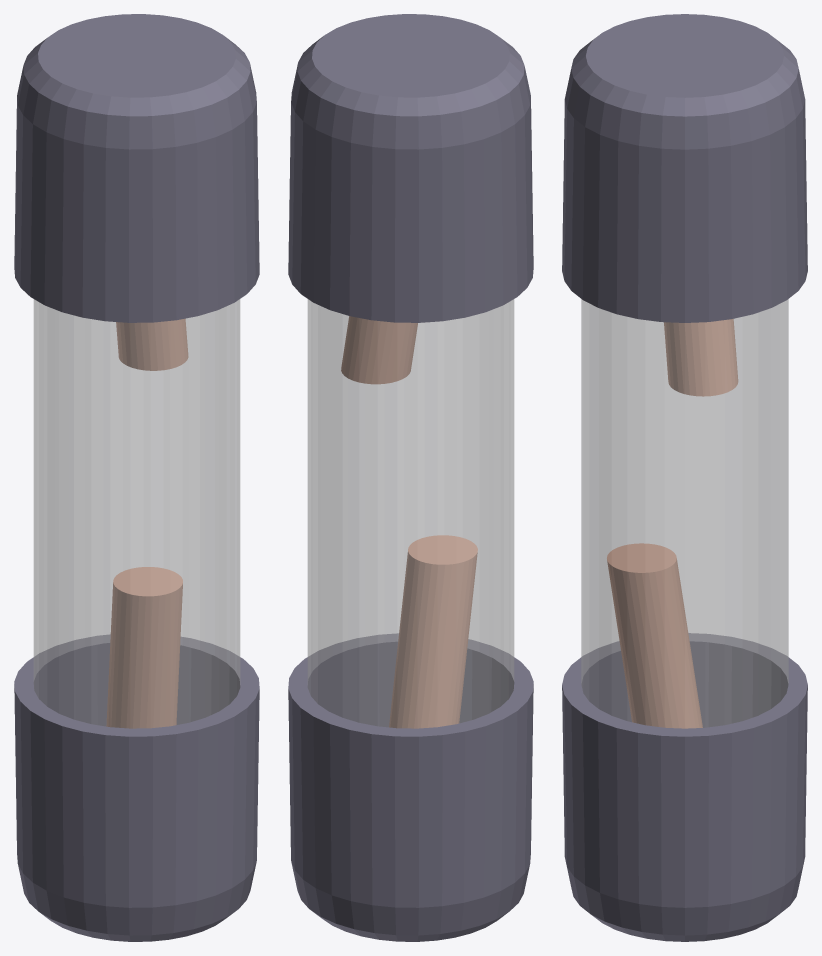
The model's file is fusiblegrille.fbx.
3 renders of one model, left to right at view 1: azimuth 30°, elevation 25°; view 2: azimuth 150°, elevation 25°; view 3: azimuth 270°, elevation 25°, orthographic.
Visible parts, largest first — view 1: Cylinder, Cylinder.002, Cylinder.001; view 2: Cylinder, Cylinder.002, Cylinder.001; view 3: Cylinder, Cylinder.002, Cylinder.001.
Boxes of the visible parts, box(x1,y1,x2,y2) form: Cylinder: box(14, 14, 259, 941); Cylinder.002: box(106, 567, 182, 728); Cylinder.001: box(116, 319, 188, 370); Cylinder: box(288, 14, 533, 941); Cylinder.002: box(389, 535, 477, 728); Cylinder.001: box(341, 316, 417, 384); Cylinder: box(562, 14, 807, 941); Cylinder.002: box(607, 543, 702, 728); Cylinder.001: box(664, 319, 738, 396).
Bounding box in the file's own units: 200 × 758 × 200.
